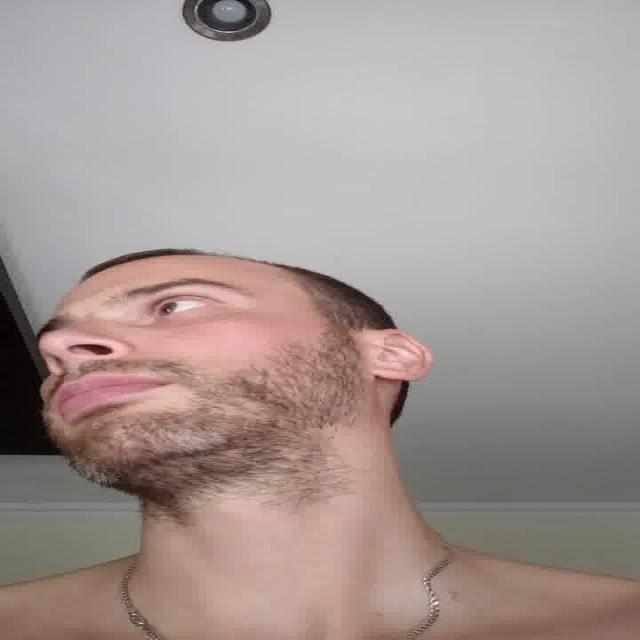earlobe: (368, 328, 437, 384)
